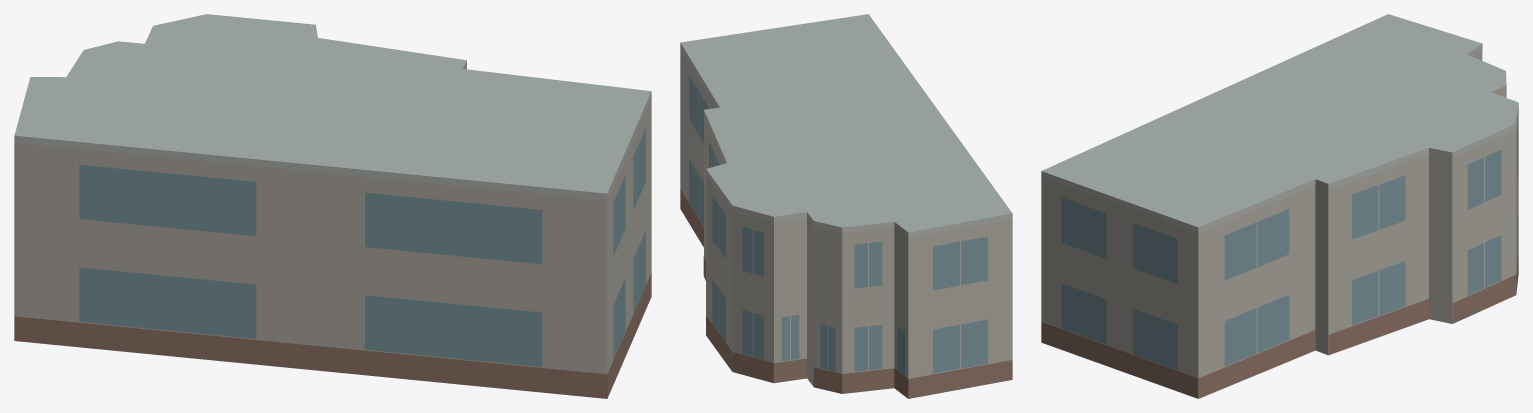
The model's file is survey-upis-32923424.glb.
The picture shows the model from 3 angles, left to right: view 1: azimuth 30°, elevation 25°; view 2: azimuth 150°, elevation 25°; view 3: azimuth 270°, elevation 25°; orthographic projection. The views are drawn at different scales.
Visible parts, largest first — view 1: survey-upis-32923424.tmp; view 2: survey-upis-32923424.tmp; view 3: survey-upis-32923424.tmp.
Boxes of the visible parts, bbox=[...] form: survey-upis-32923424.tmp: bbox=[14, 14, 651, 398]; survey-upis-32923424.tmp: bbox=[680, 14, 1012, 398]; survey-upis-32923424.tmp: bbox=[1041, 14, 1518, 398].
Size of the model in its own units: 19.49 by 7.3 by 18.42.
